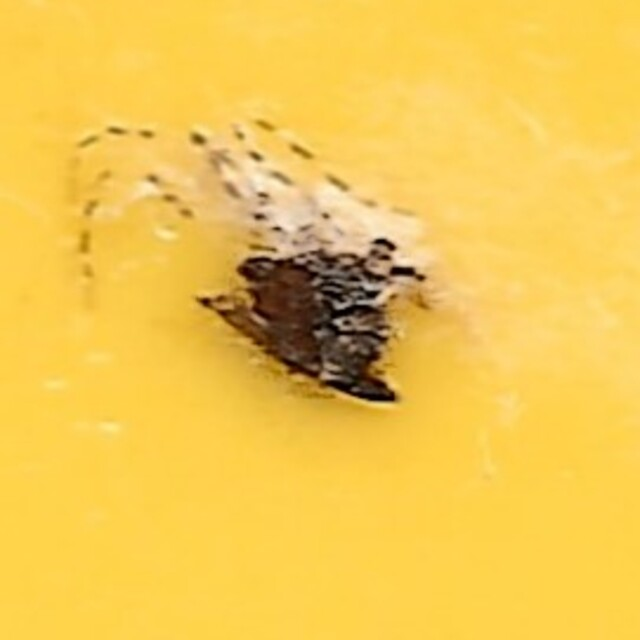Nematocera: (236, 234, 404, 406)
